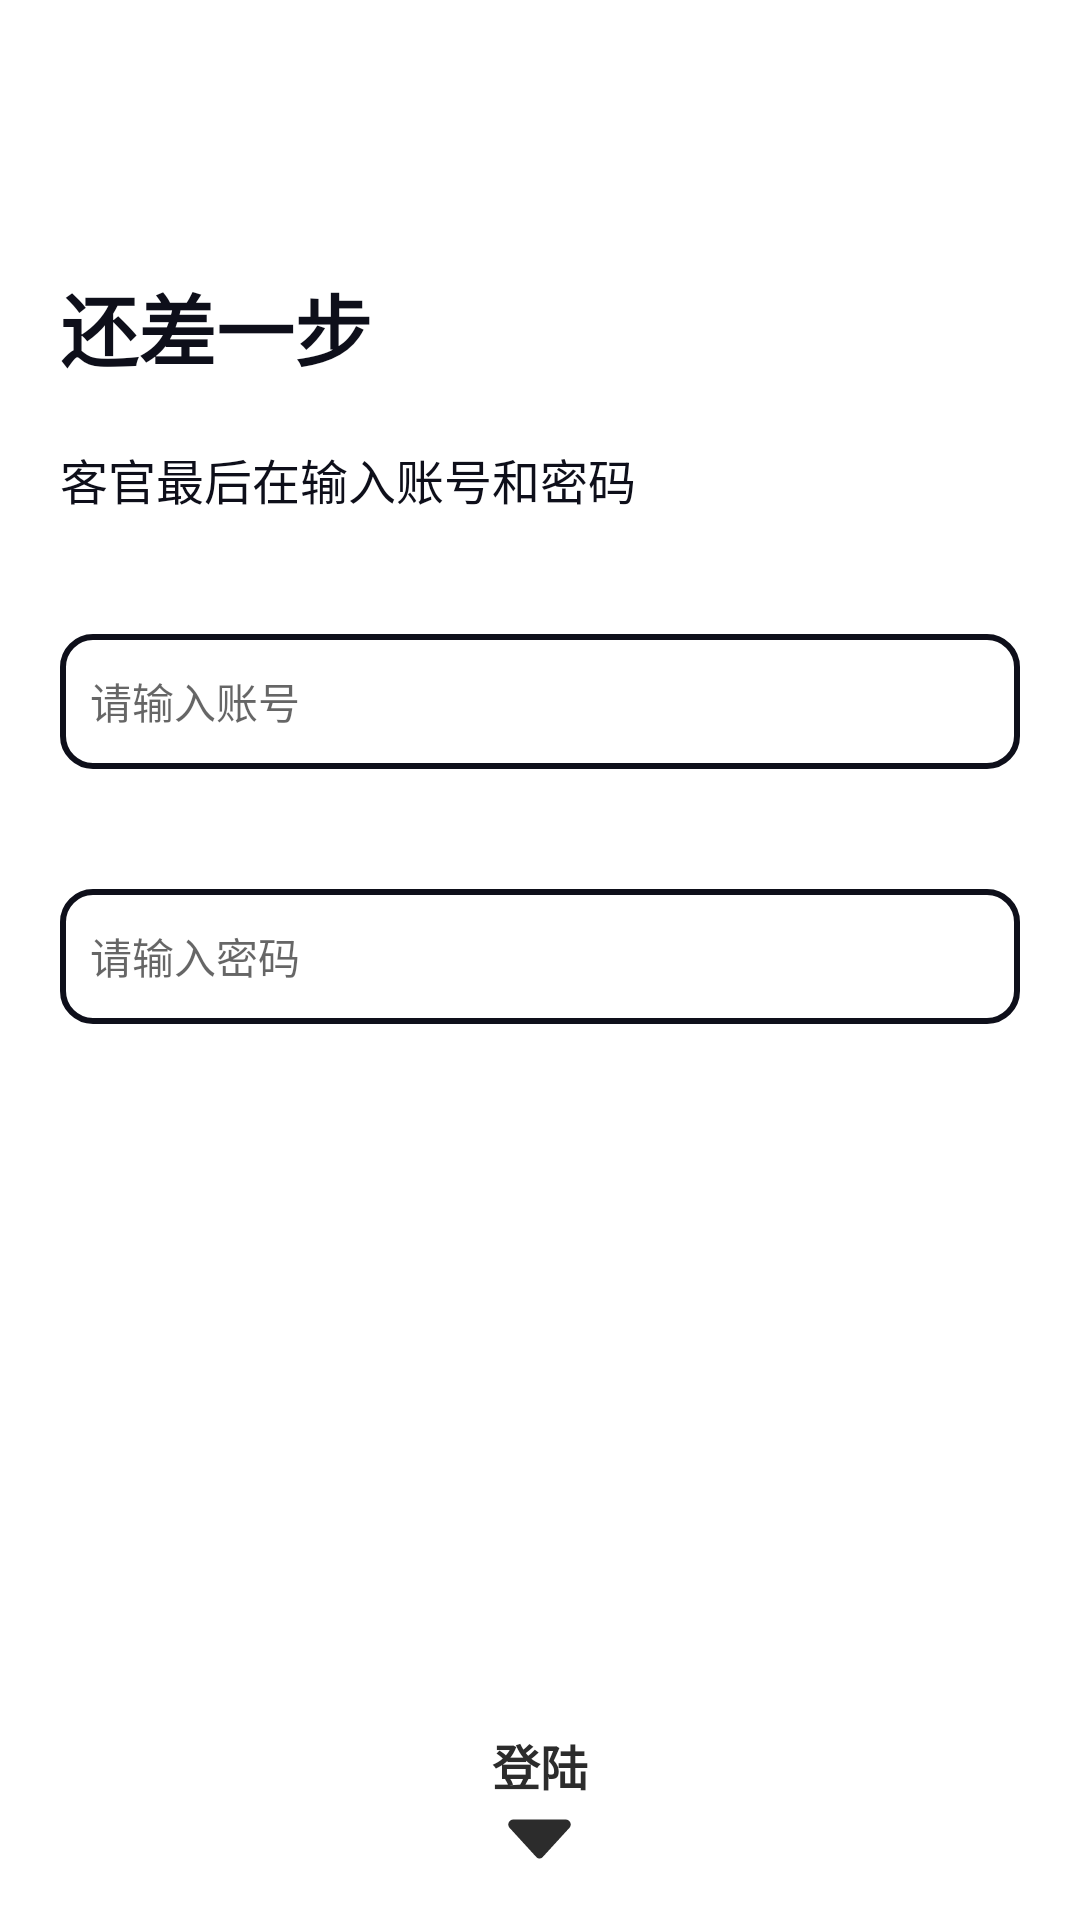

Where to tap for icons on this 1080*1920 app screen, as (x=x, y=y):
bvc pull: (x=539, y=1839)
